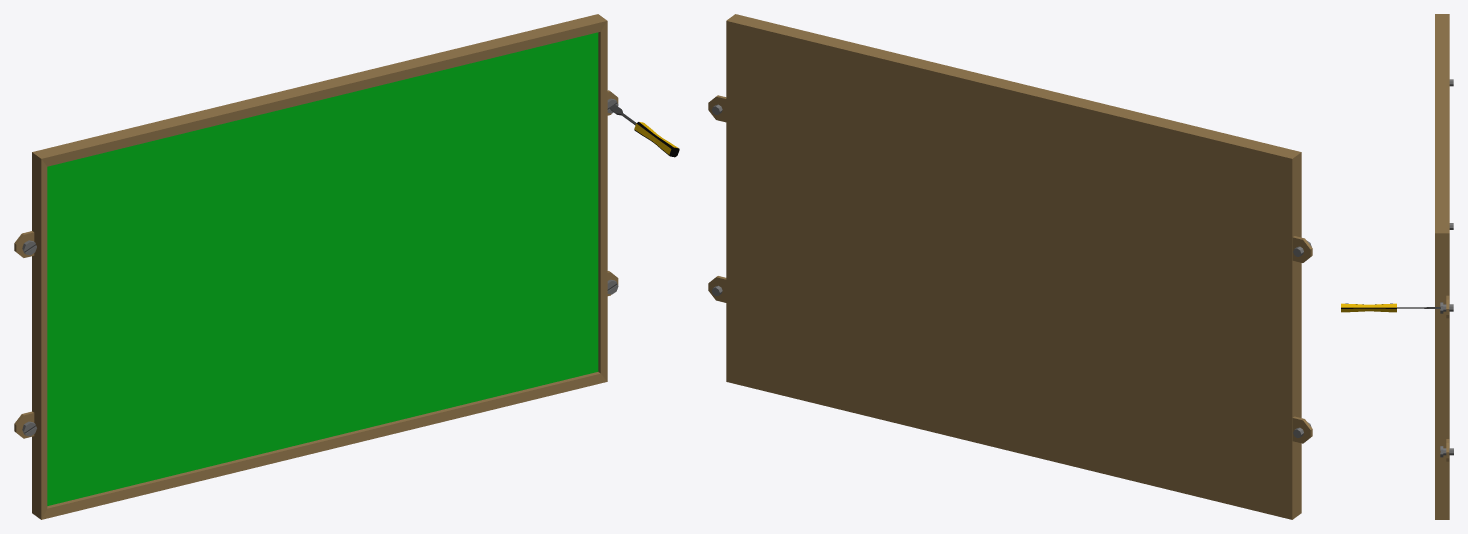
Rendered from Quadro.fbx.
3 views of the same model, side by side, from view 1: azimuth 30°, elevation 25°; view 2: azimuth 150°, elevation 25°; view 3: azimuth 270°, elevation 25° (orthographic). The views are drawn at different scales.
Visible parts, largest first — view 1: Cube; view 2: Cube; view 3: Cube, ChaveDeFenda.
Boxes of the visible parts, left/top/right/bottom form: Cube: left=14, top=14, right=618, bottom=519; Cube: left=708, top=14, right=1312, bottom=519; Cube: left=1435, top=14, right=1449, bottom=519; ChaveDeFenda: left=1341, top=303, right=1440, bottom=312.
Bounding box in the file's own units: 333 × 191 × 68.
